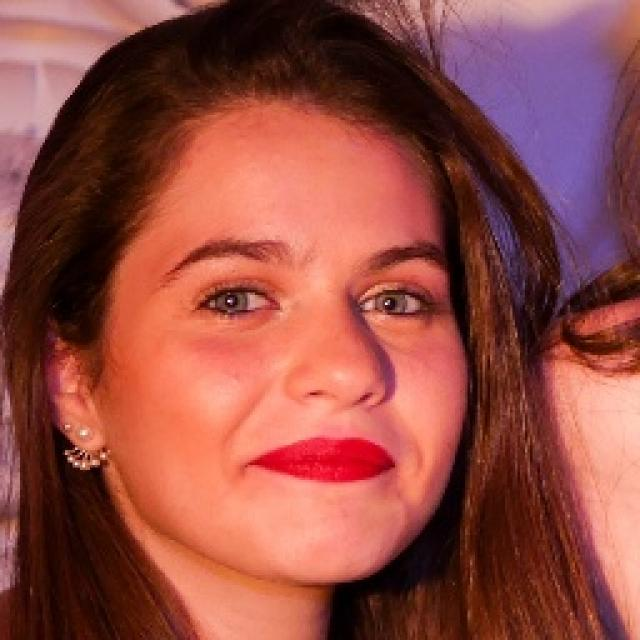earlobe: (62, 401, 108, 456)
eye: (356, 280, 443, 327), (193, 279, 278, 321)
nose: (285, 388, 390, 428)
wholeear: (34, 300, 108, 456)
